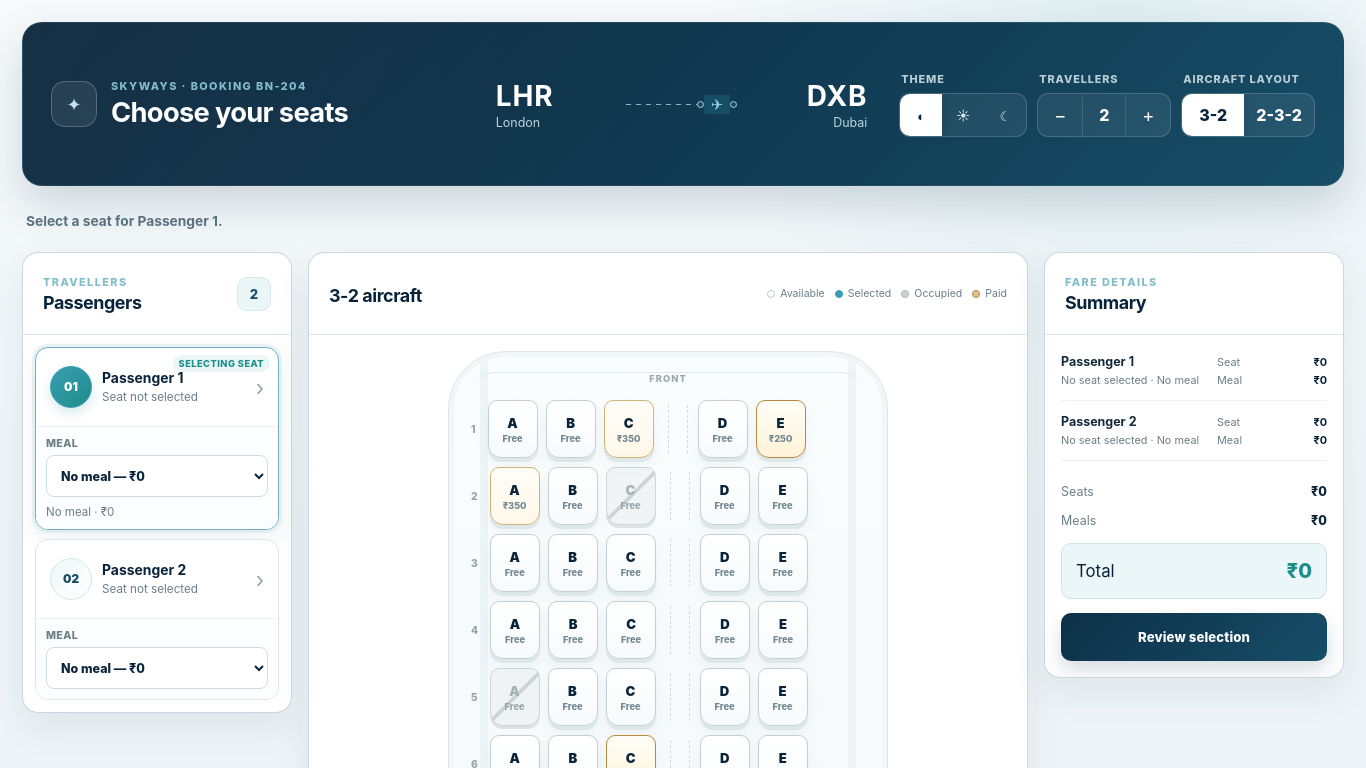
Test case: App › removes a seat and disables occupied and other-passenger seats
Click the button with aria-label "Seat 1A" at coordinates (512, 429), box [488, 400, 538, 458]
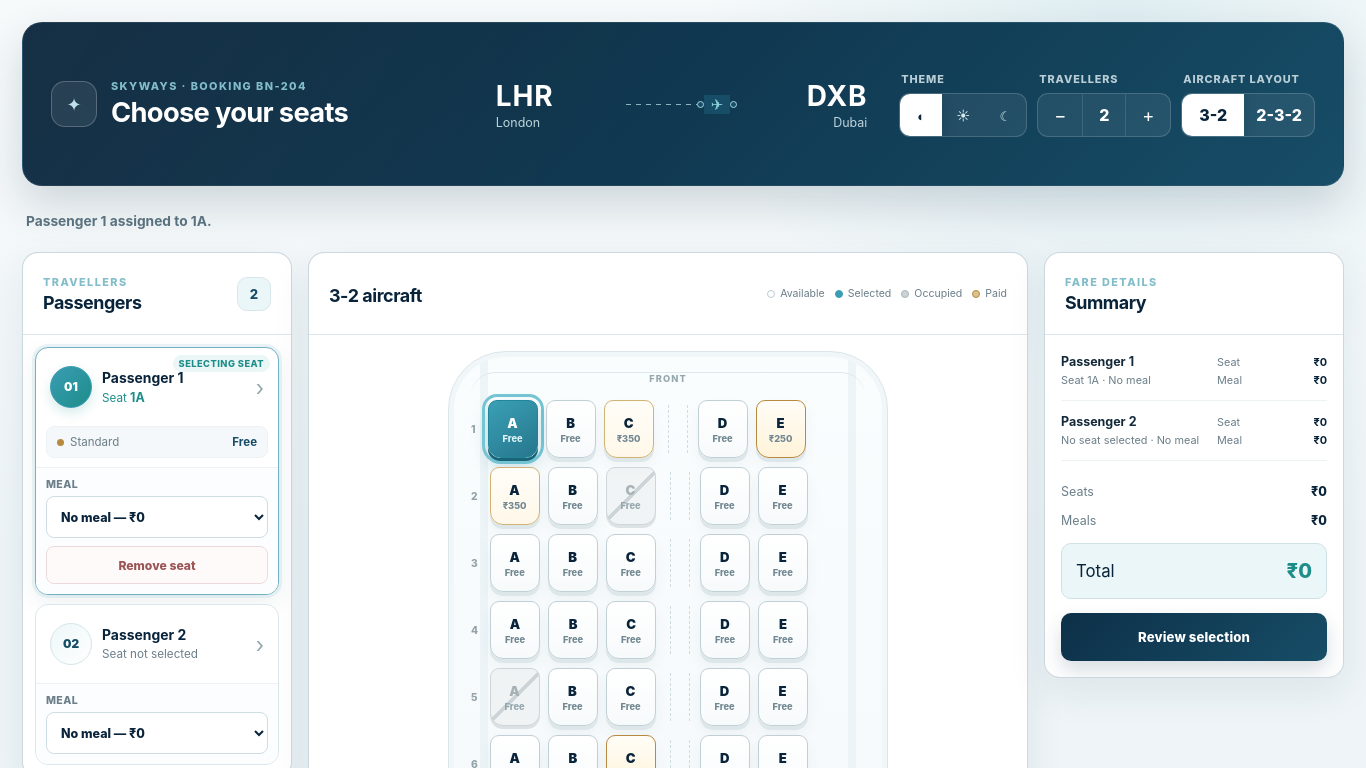
Click the button "Remove seat" at coordinates (157, 565), box [46, 546, 268, 584]
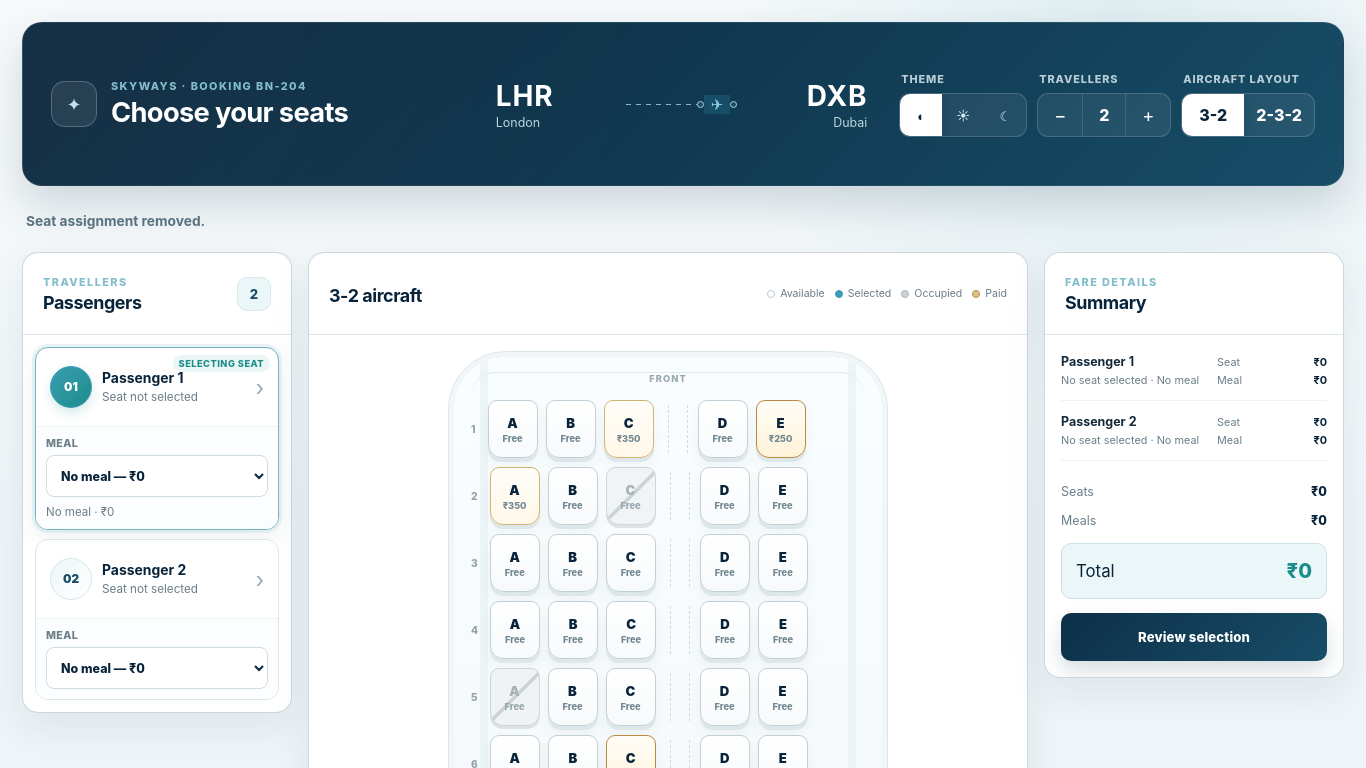
expect the text "Seat assignment removed." is shown: met, box [26, 213, 205, 229]
Click the button with aria-label "Seat 1A" at coordinates (512, 429), box [488, 400, 538, 458]
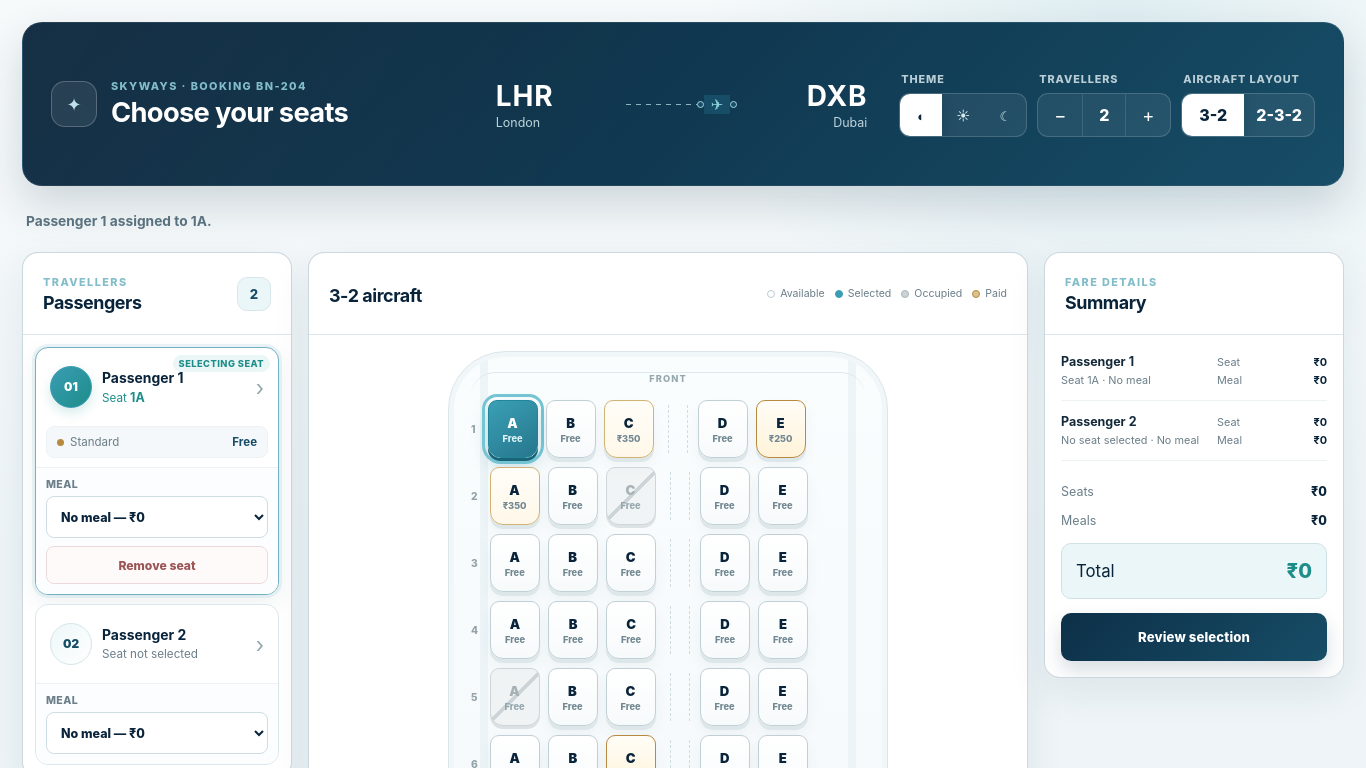
Click the button "02 Passenger 2 Seat not selected ›" at coordinates (157, 644), box [46, 615, 268, 673]
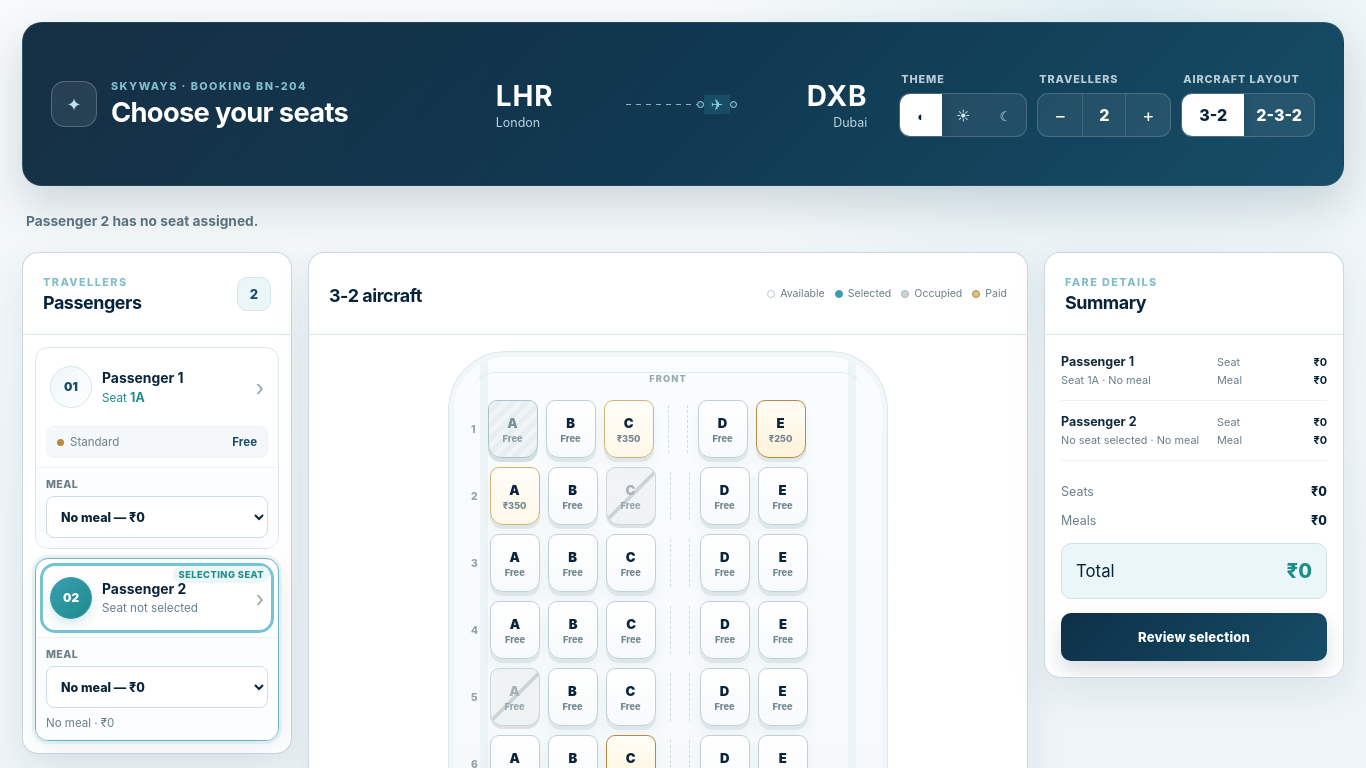
expect the button with aria-label "Seat 2C, occupied" is disabled: met, box [606, 467, 656, 525]
expect the button with aria-label "Seat 1A, assigned to Passenger 1" is disabled: met, box [488, 400, 538, 458]
